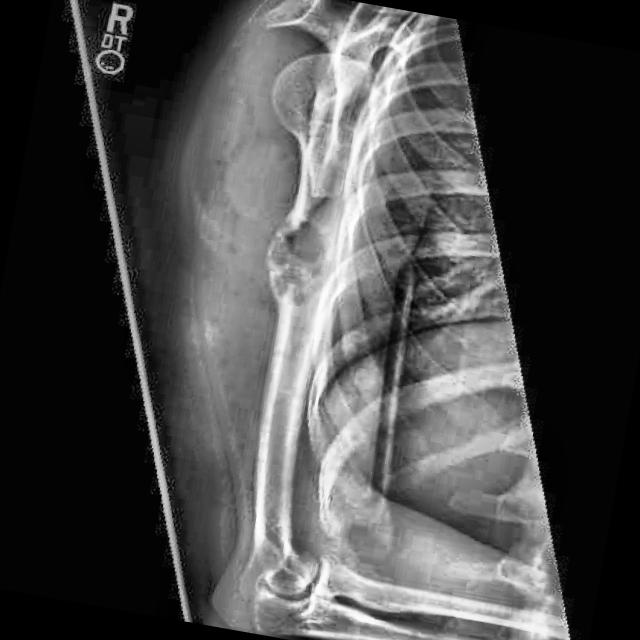humerus: (238, 193, 337, 324)
